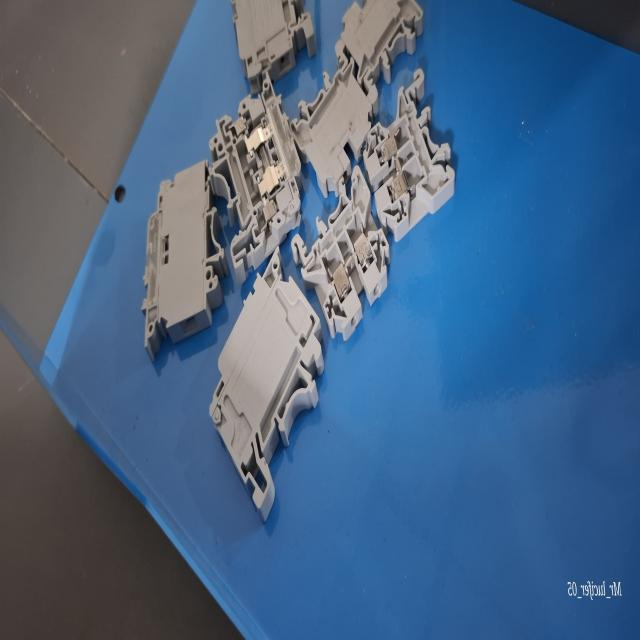Inverted: (288, 56, 376, 196)
Pass: (288, 157, 396, 345), (362, 52, 461, 244)
